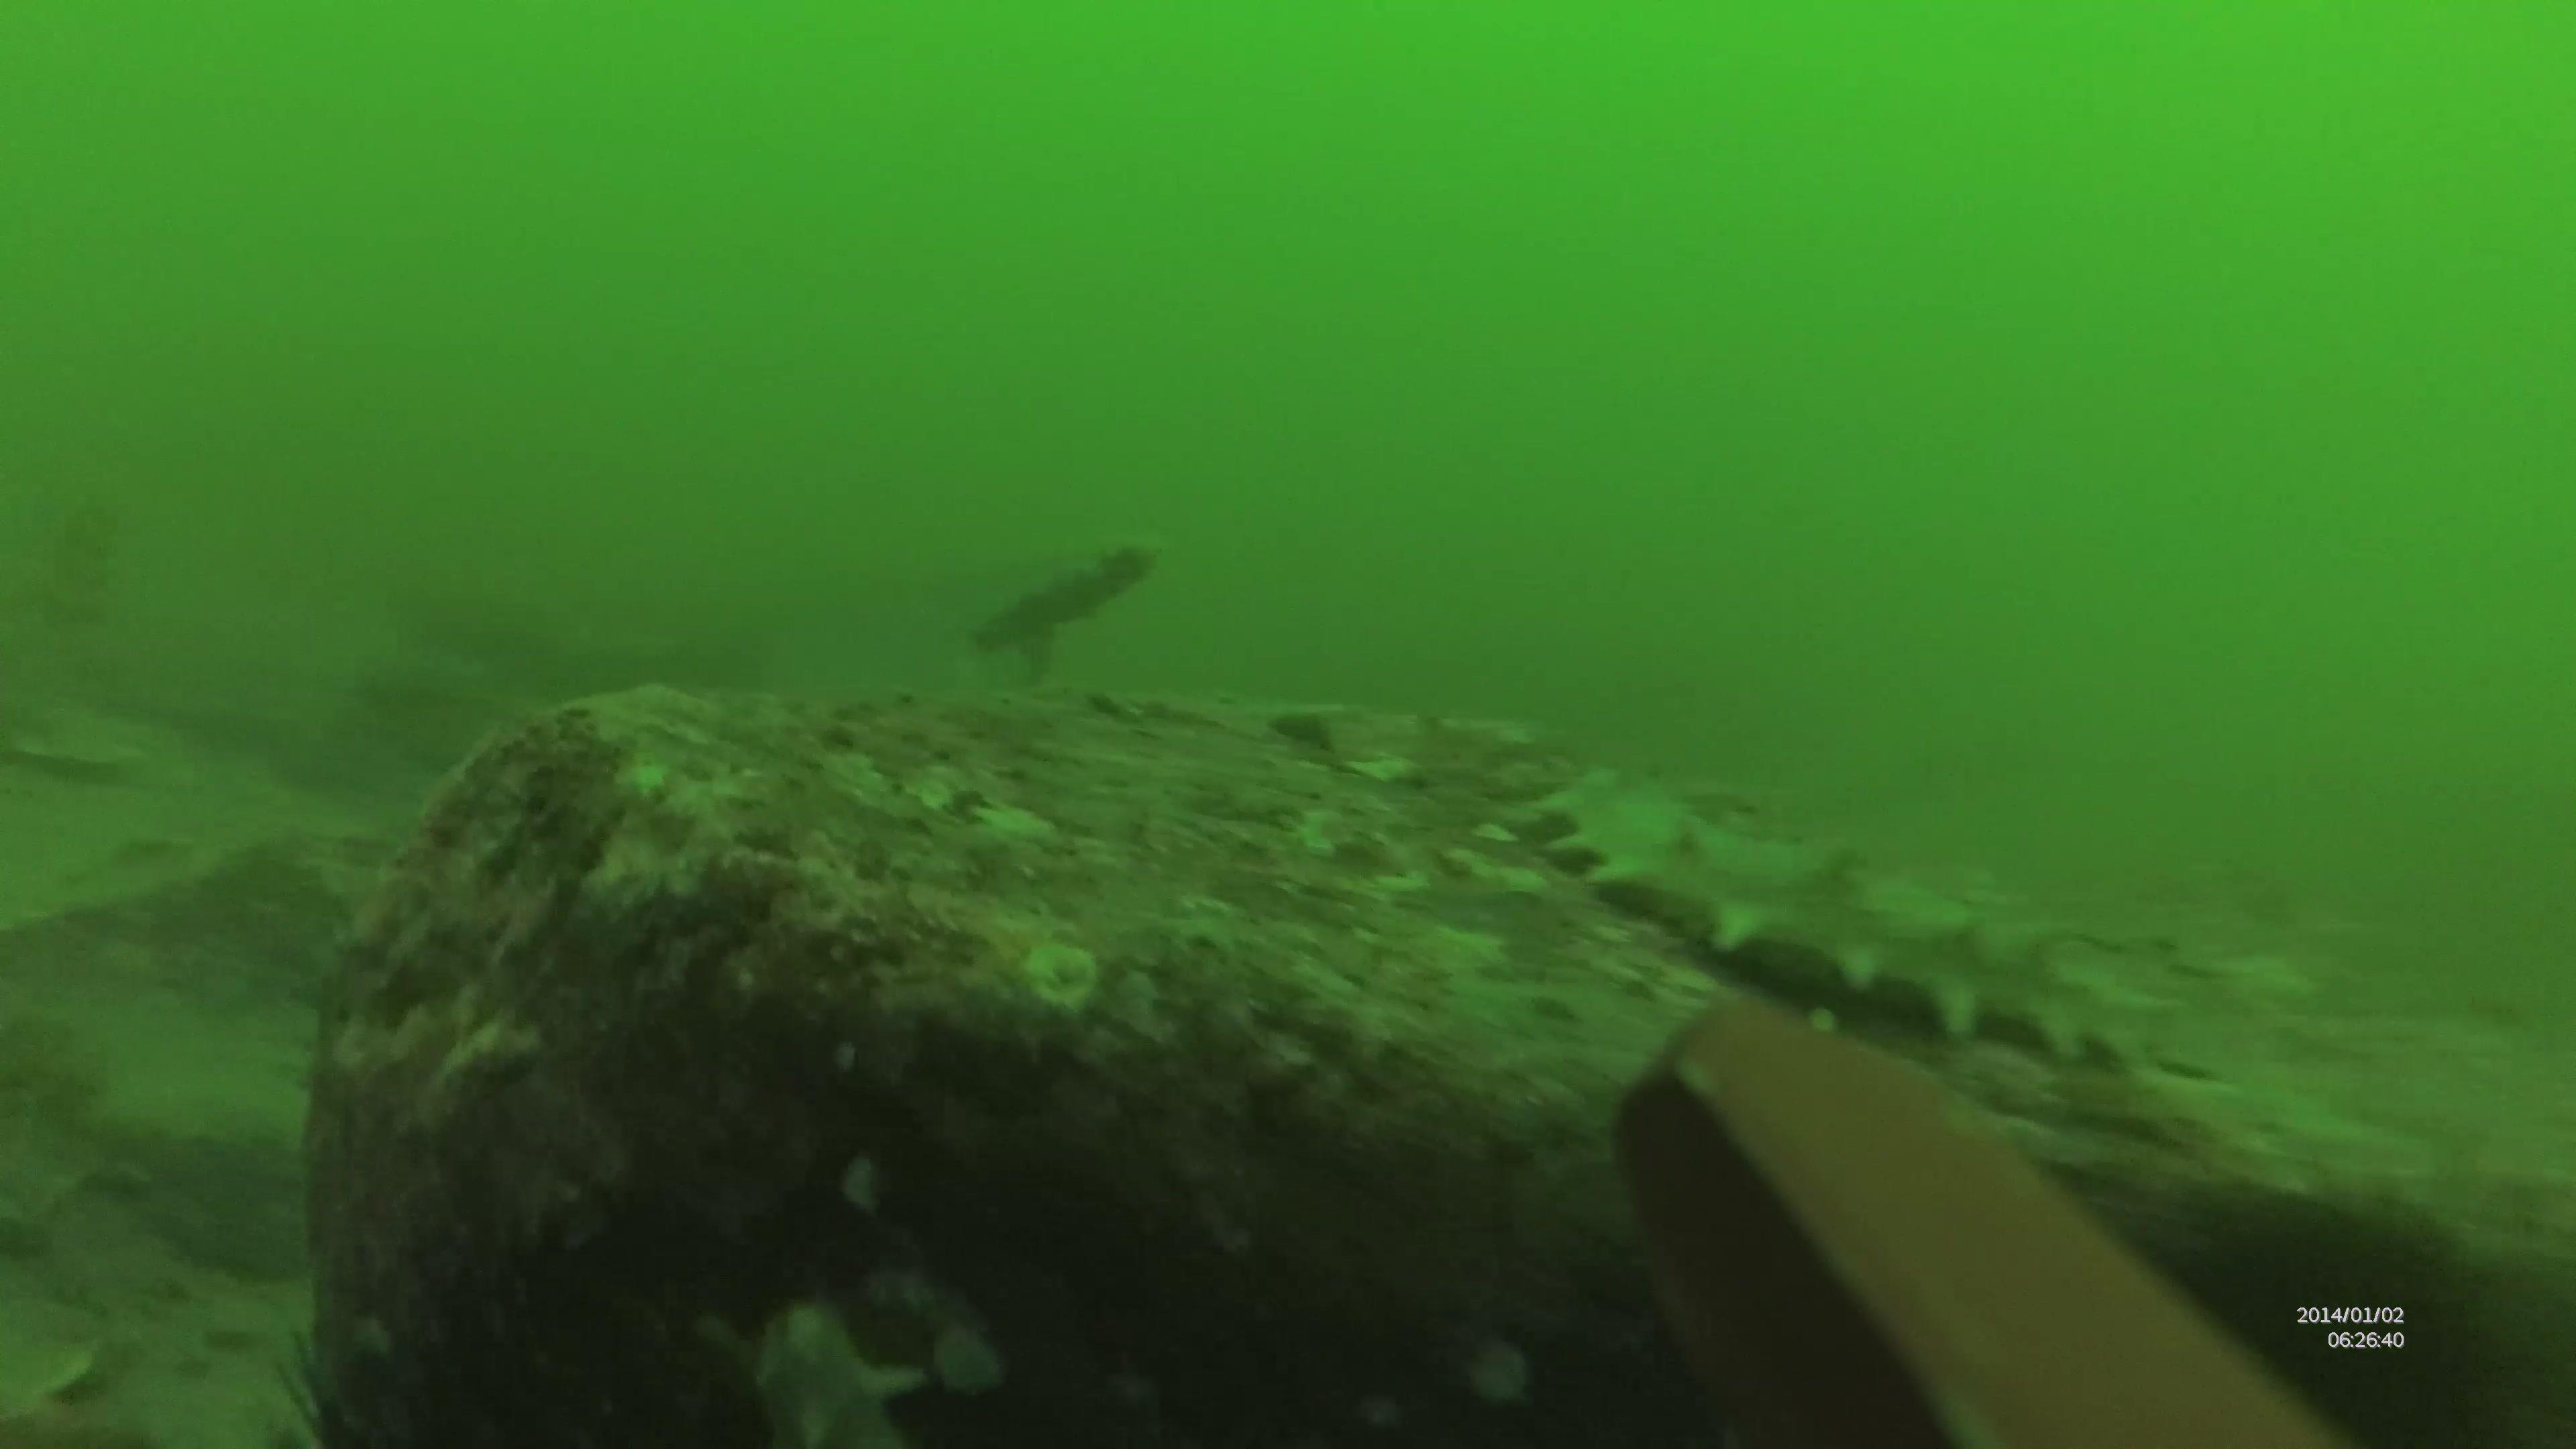holothurian: (1516, 743, 2181, 1067), (957, 525, 1177, 665), (724, 1304, 908, 1449)
